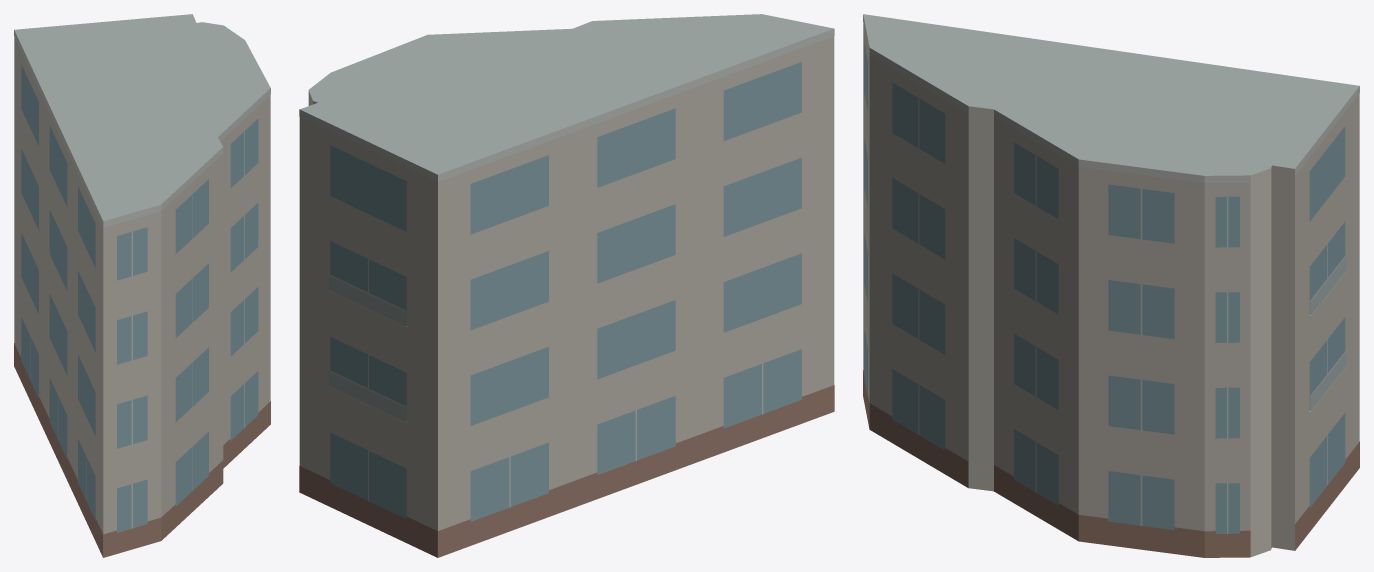
The model's file is survey-upis-32710709.glb.
3 renders of one model, left to right at view 1: azimuth 30°, elevation 25°; view 2: azimuth 150°, elevation 25°; view 3: azimuth 270°, elevation 25°, orthographic. The views are drawn at different scales.
Parts seen in each view (by area): view 1: survey-upis-32710709.tmp; view 2: survey-upis-32710709.tmp; view 3: survey-upis-32710709.tmp.
Part boxes in pixels (left/top/right/bottom): survey-upis-32710709.tmp: left=14, top=14, right=270, bottom=557; survey-upis-32710709.tmp: left=299, top=14, right=834, bottom=557; survey-upis-32710709.tmp: left=863, top=14, right=1359, bottom=557.
Bounding box in the file's own units: 11.6 × 12.75 × 15.03.
